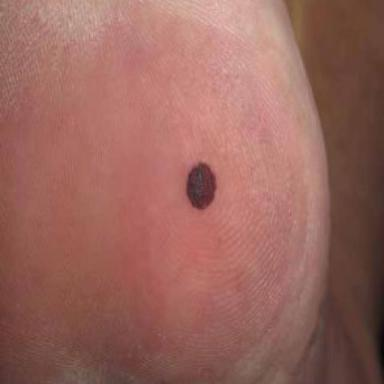Melanoma: (186, 162, 216, 209)
